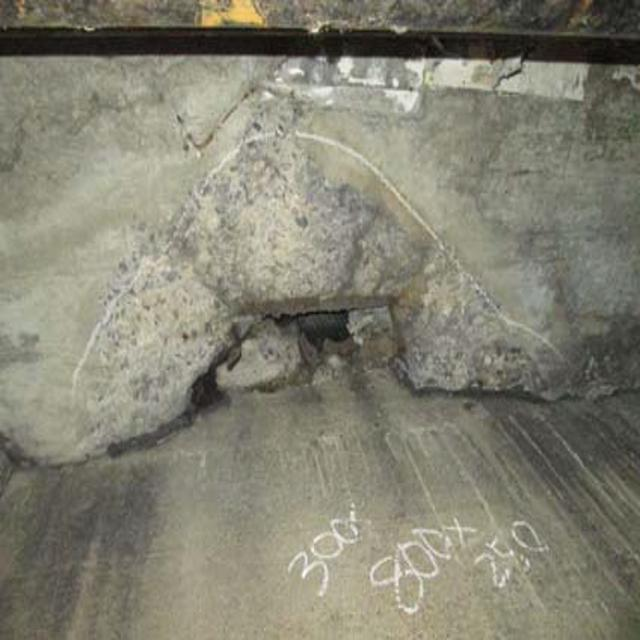spalling: (69, 144, 538, 422)
